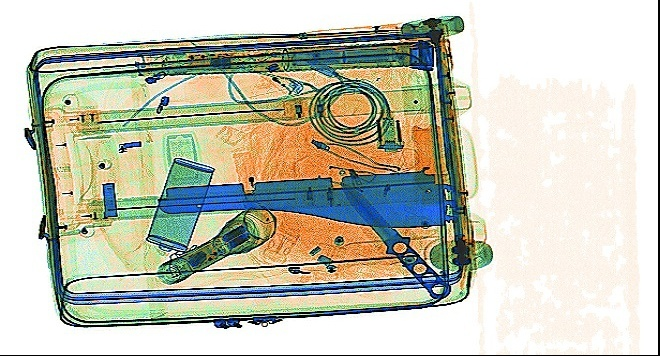knife: (339, 178, 450, 298)
lighter: (230, 148, 261, 205)
zippooil: (141, 157, 214, 252)
